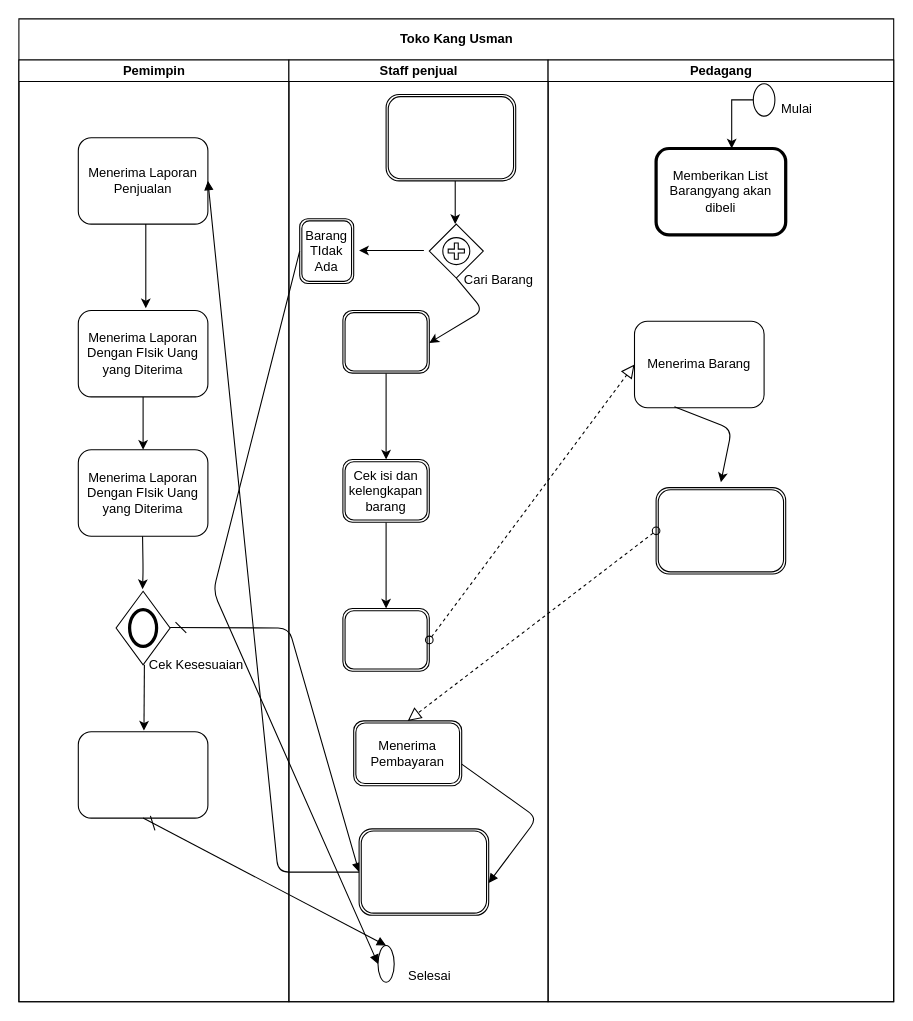
The diagram is 913 pixels wide and 1021 high, and some of its shapes have lost their labels. The centre of each missing label's shape, as x and y in pixels:
"ACC Laporan Penjualan" belongs at point 142,774.
"Membayar barang" belongs at point 720,530.
"Memberikan Barang" belongs at point 385,639.
"Mencatat Laporan Penjualan" belongs at point 423,871.
"Menerima List Barang Yang akan Dibeli" belongs at point 450,137.
"Mengambil data" belongs at point 385,341.
